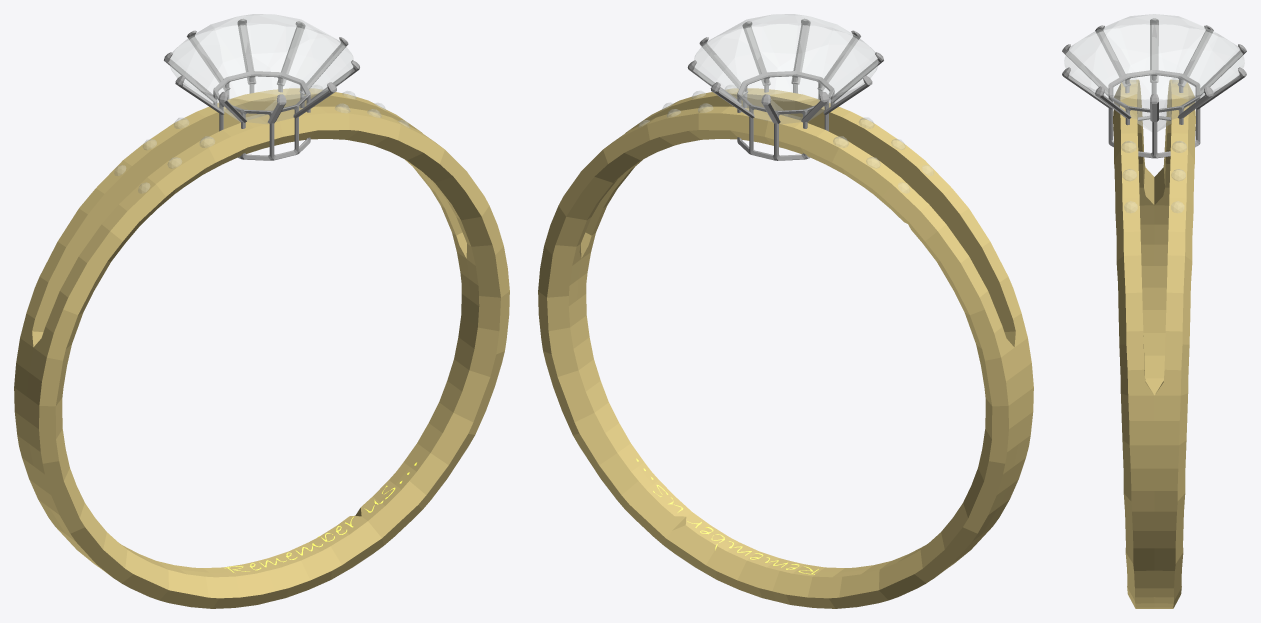
Rendered from ring_blender.glb.
3 renders of one model, left to right at view 1: azimuth 30°, elevation 25°; view 2: azimuth 150°, elevation 25°; view 3: azimuth 270°, elevation 25°, orthographic. The views are drawn at different scales.
Visible parts, largest first — view 1: Ring.001; view 2: Ring.001; view 3: Ring.001.
Part boxes in pixels (x1,y1,x2,y2): Ring.001: [14, 14, 509, 608]; Ring.001: [538, 14, 1033, 608]; Ring.001: [1062, 14, 1246, 608].
Size of the model in its own units: 6.12 by 6.96 by 2.13.
